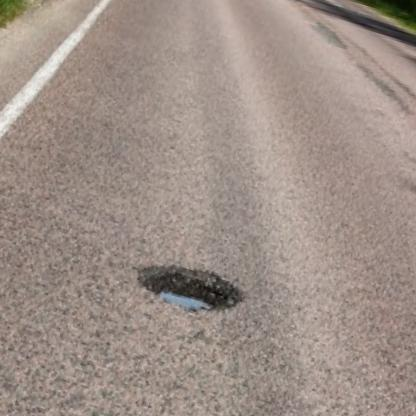pothole: (132, 249, 250, 327)
